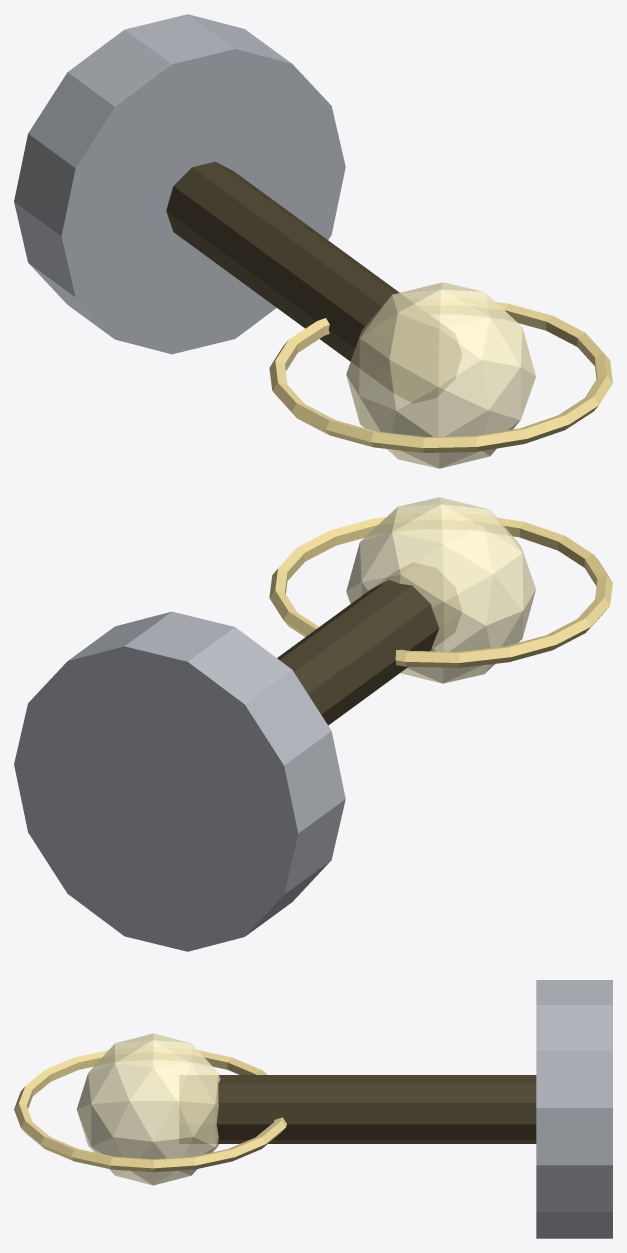
File: 03_world_landmark_light.glb
3 views of the same model, one above another, from view 1: azimuth 30°, elevation 25°; view 2: azimuth 150°, elevation 25°; view 3: azimuth 270°, elevation 25° (orthographic). The views are drawn at different scales.
Visible parts, largest first — view 1: light_base, light_column, light_core, light_halo; view 2: light_base, light_core, light_column, light_halo; view 3: light_column, light_base, light_core, light_halo.
Boxes of the visible parts, left/top/right/bottom form: light_base: left=14, top=14, right=345, bottom=354; light_column: left=166, top=161, right=461, bottom=402; light_core: left=346, top=282, right=535, bottom=468; light_halo: left=269, top=298, right=612, bottom=452; light_base: left=14, top=611, right=345, bottom=951; light_core: left=346, top=497, right=535, bottom=683; light_column: left=277, top=563, right=461, bottom=725; light_halo: left=269, top=513, right=612, bottom=667; light_column: left=180, top=1075, right=536, bottom=1143; light_base: left=536, top=980, right=612, bottom=1238; light_core: left=76, top=1033, right=220, bottom=1185; light_halo: left=14, top=1047, right=286, bottom=1172.
Bounding box in the file's own units: 0.8 × 0.7409 × 1.72.
